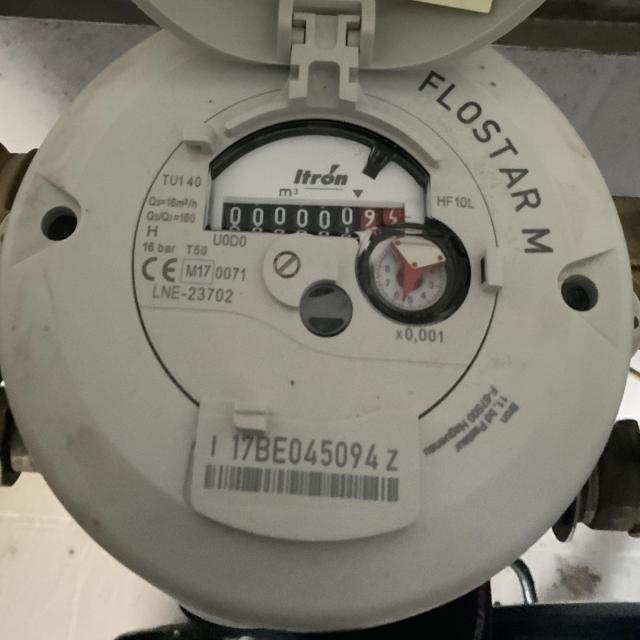gaz_meter: (24, 11, 640, 631)
indication: (219, 195, 406, 243)
